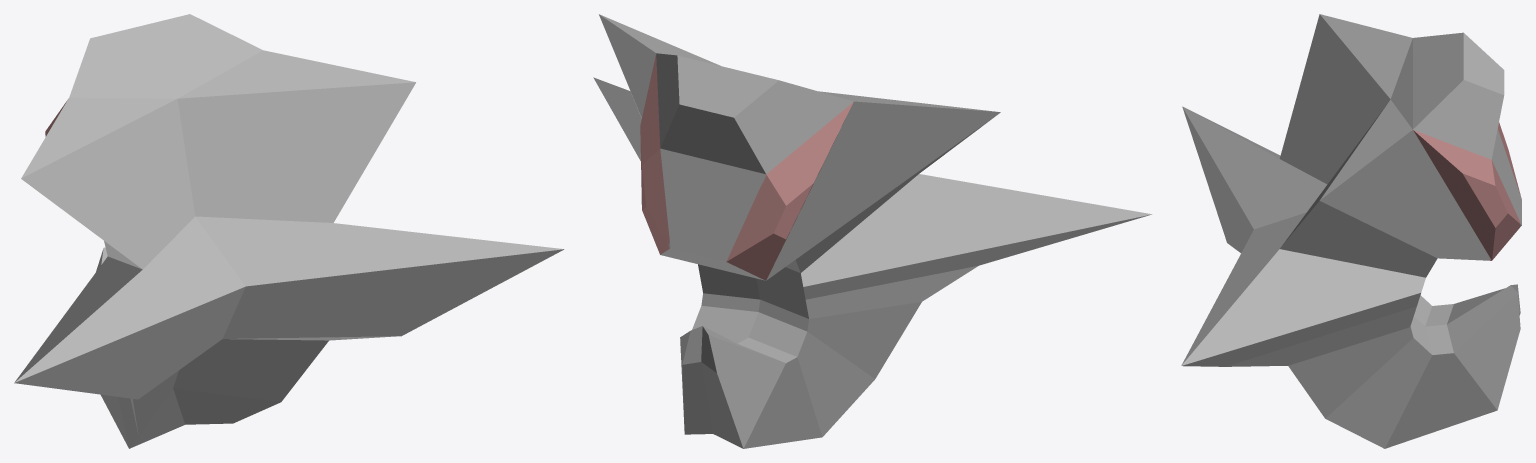
The model's file is testship.fbx.
3 views of the same model, side by side, from view 1: azimuth 30°, elevation 25°; view 2: azimuth 150°, elevation 25°; view 3: azimuth 270°, elevation 25° (orthographic). The views are drawn at different scales.
Visible parts, largest first — view 1: Cube; view 2: Cube; view 3: Cube.
Boxes of the visible parts, bbox=[...] form: Cube: bbox=[14, 14, 564, 448]; Cube: bbox=[593, 14, 1151, 448]; Cube: bbox=[1181, 14, 1521, 448].
Bounding box in the file's own units: 5.85 × 3.87 × 3.24.
1 material, 1 textured.
